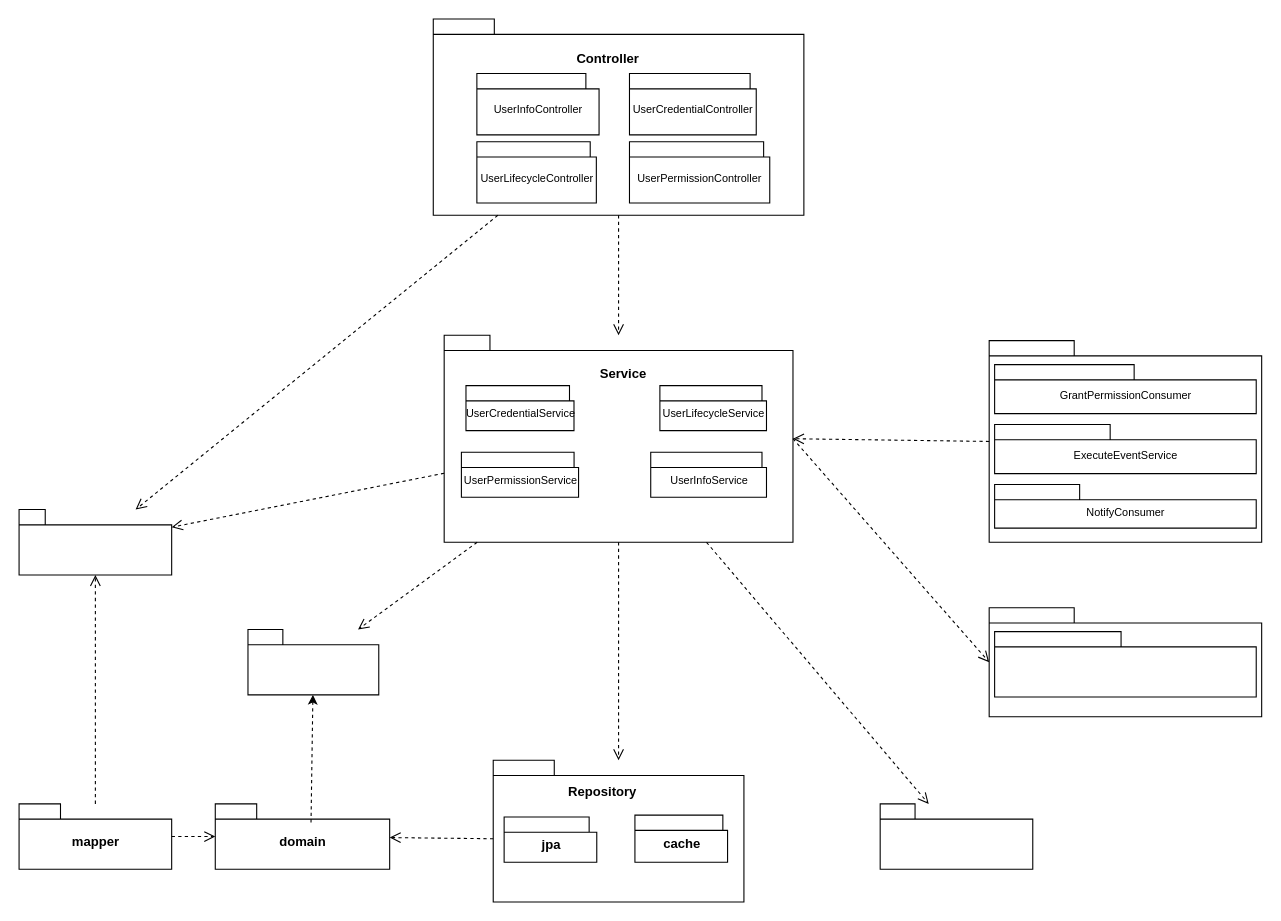
This 1281x921 diagram has some shape labels left out. The shapes that lost their labels are listed below. From the top down, each one's centre as x and y in pixels, then its label:
[95,541]: dto
[313,661]: enums
[1125,664]: IdentityEventProducer
[956,836]: utils
